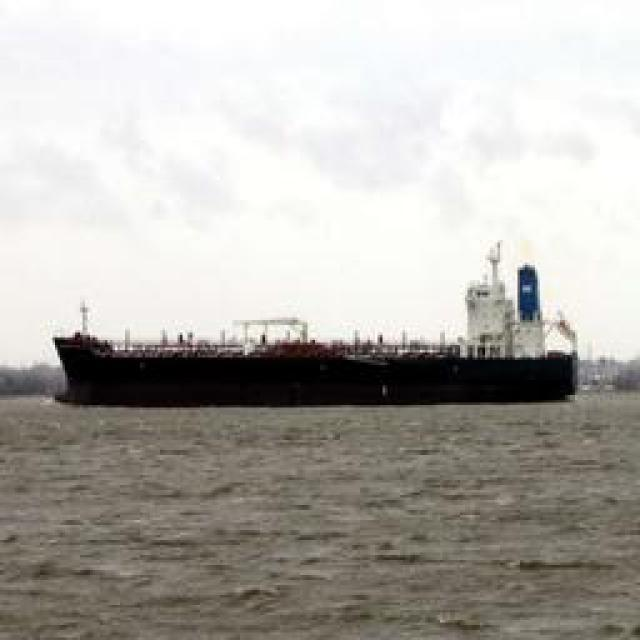Ship: (54, 264, 579, 414)
